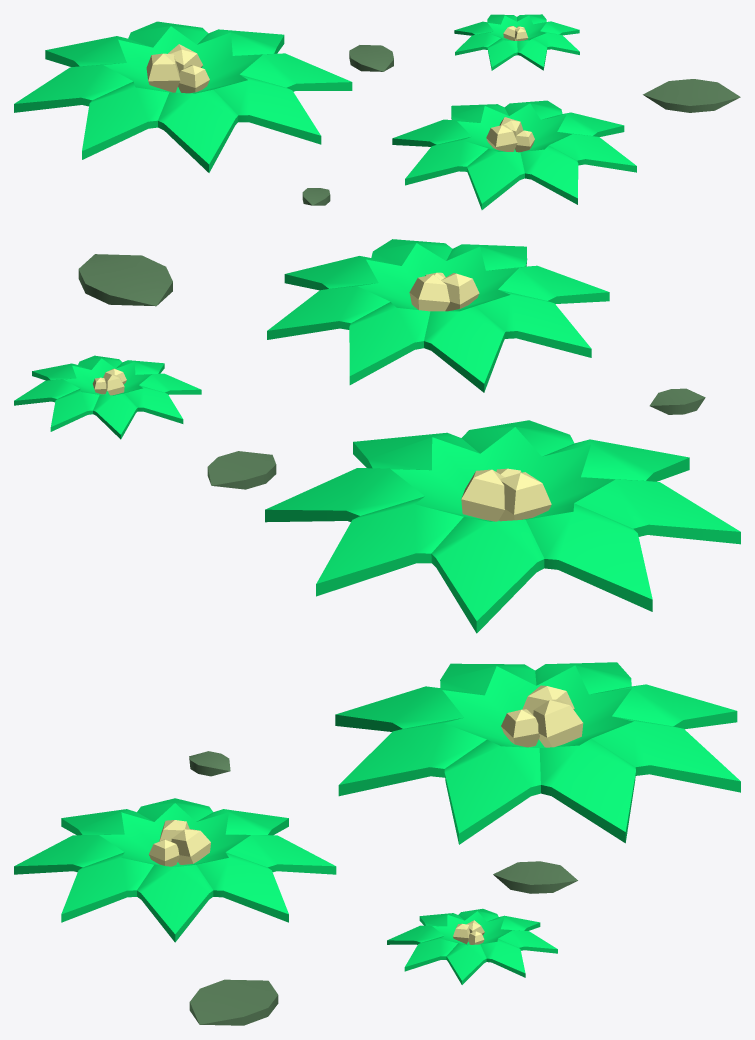
Rendered from OBJ_Big_Flowers_Flat.obj.
3 views of the same model, one above another, from view 1: azimuth 30°, elevation 25°; view 2: azimuth 150°, elevation 25°; view 3: azimuth 270°, elevation 25° (orthographic). The views are drawn at different scales.
Visible parts, largest first — view 1: polySurface19; view 2: polySurface19; view 3: polySurface19.
Part boxes in pixels (x1,y1,x2,y2): polySurface19: (14, 14, 740, 209); polySurface19: (14, 239, 740, 633); polySurface19: (14, 662, 740, 1025).
Size of the model in its own units: 350 by 32.53 by 308.
